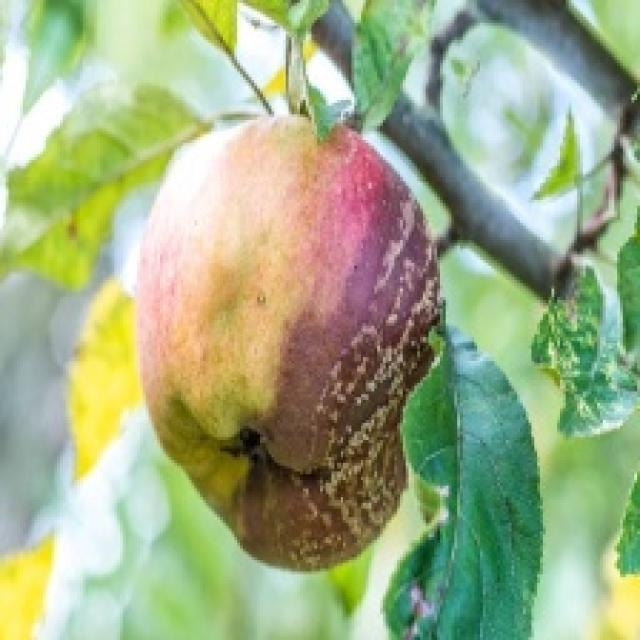rotten_apple: (140, 122, 436, 568)
